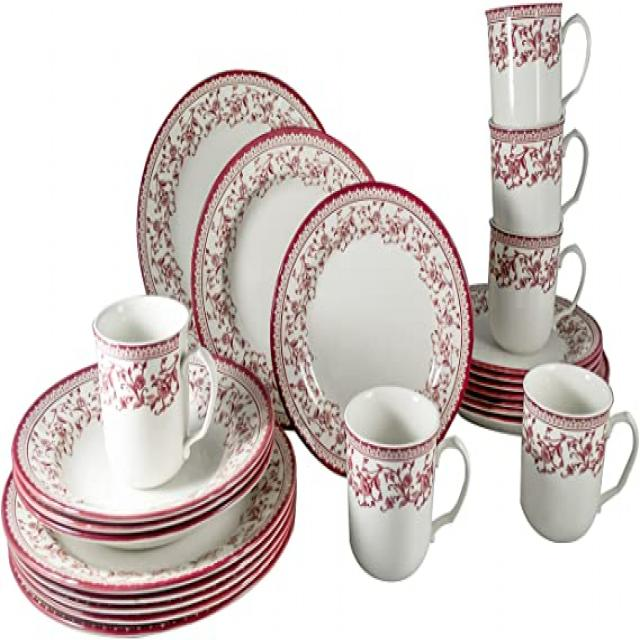non-organic waste: (272, 161, 470, 492), (12, 327, 288, 529), (452, 243, 597, 410)
